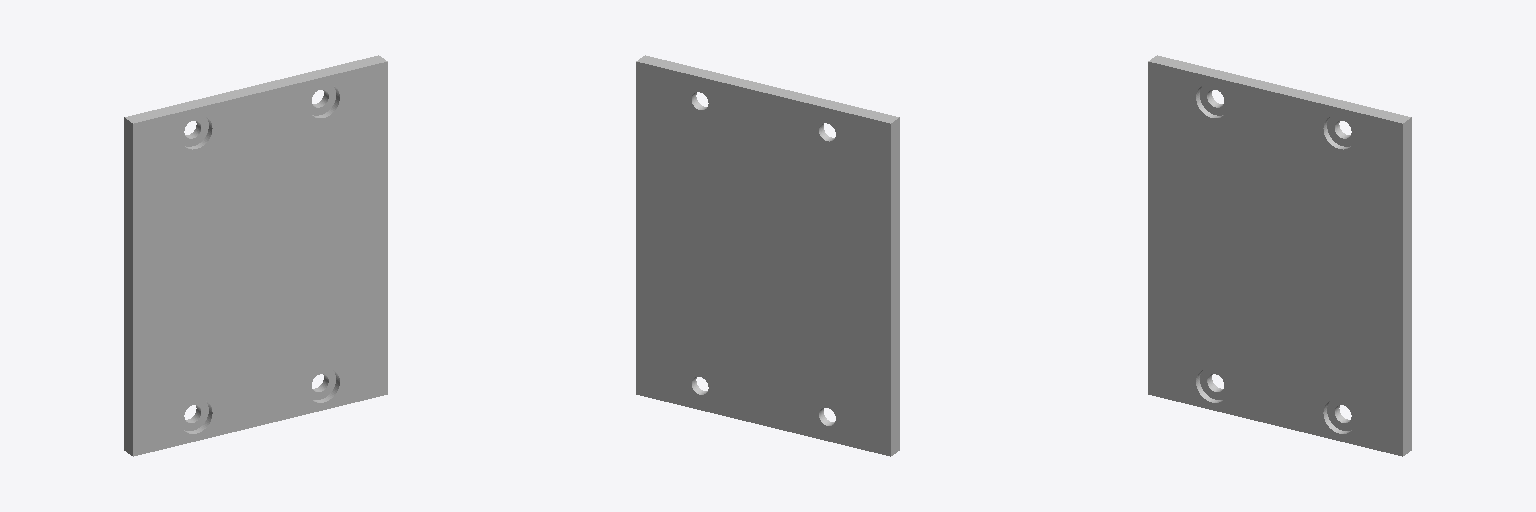
The model's file is plate.obj.
3 renders of one model, left to right at view 1: azimuth 30°, elevation 25°; view 2: azimuth 150°, elevation 25°; view 3: azimuth 330°, elevation 25°, orthographic.
Visible parts, largest first — view 1: mesh3, mesh5, mesh4; view 2: mesh15, mesh5, mesh4; view 3: mesh3, mesh7, mesh4.
Boxes of the visible parts, <box> form: mesh3: <box>133,62,387,456</box>; mesh5: <box>124,117,132,455</box>; mesh4: <box>125,55,387,123</box>; mesh15: <box>636,62,890,456</box>; mesh5: <box>891,117,899,455</box>; mesh4: <box>636,55,898,123</box>; mesh3: <box>1148,62,1402,456</box>; mesh7: <box>1403,117,1411,455</box>; mesh4: <box>1148,55,1410,123</box>.
Size of the model in its own units: 0.12 by 0.15 by 0.007.